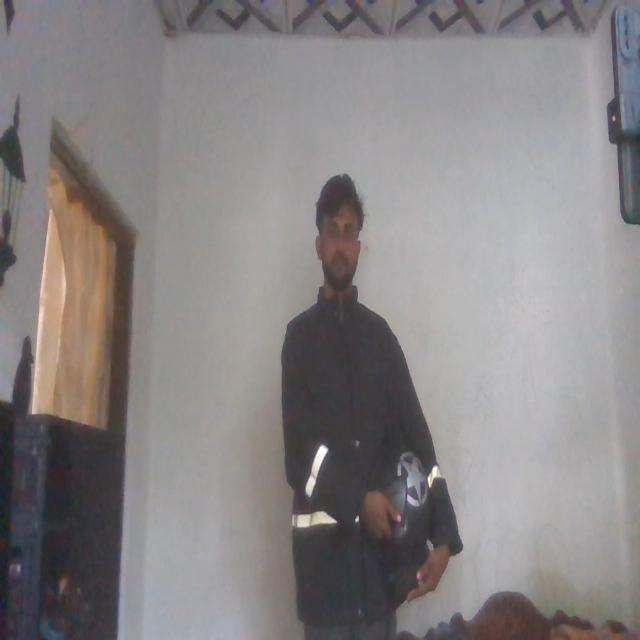Jacket_Wearer: (278, 280, 428, 627)
Person: (264, 146, 446, 640)
